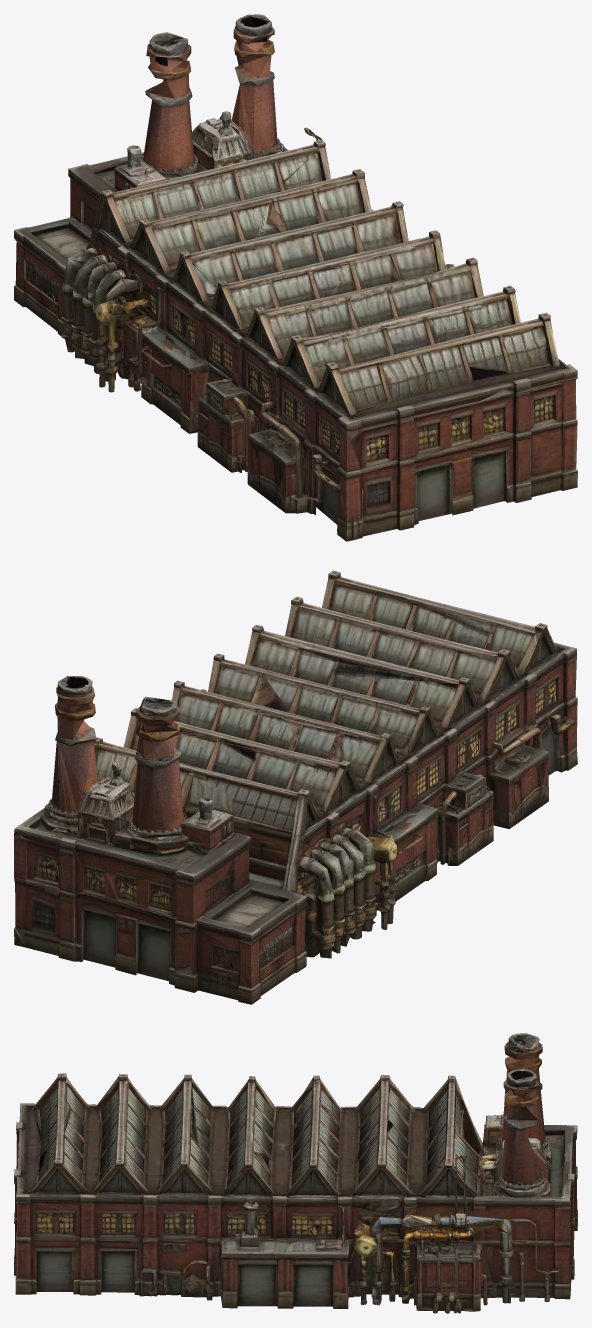
Rendered from factory_2x4.glb.
The picture shows the model from 3 angles, top to bottom: view 1: azimuth 30°, elevation 25°; view 2: azimuth 150°, elevation 25°; view 3: azimuth 270°, elevation 25°; orthographic projection. The views are drawn at different scales.
Parts seen in each view (by area): view 1: normalize; view 2: normalize; view 3: normalize.
Part boxes in pixels (x1=…): normalize: x1=14, y1=14, x2=577, y2=541; normalize: x1=14, y1=570, x2=577, y2=1004; normalize: x1=14, y1=1033, x2=577, y2=1313.
Size of the model in its own units: 0.5296 by 0.4147 by 1.
Materials: 1 (1 with a texture image).
